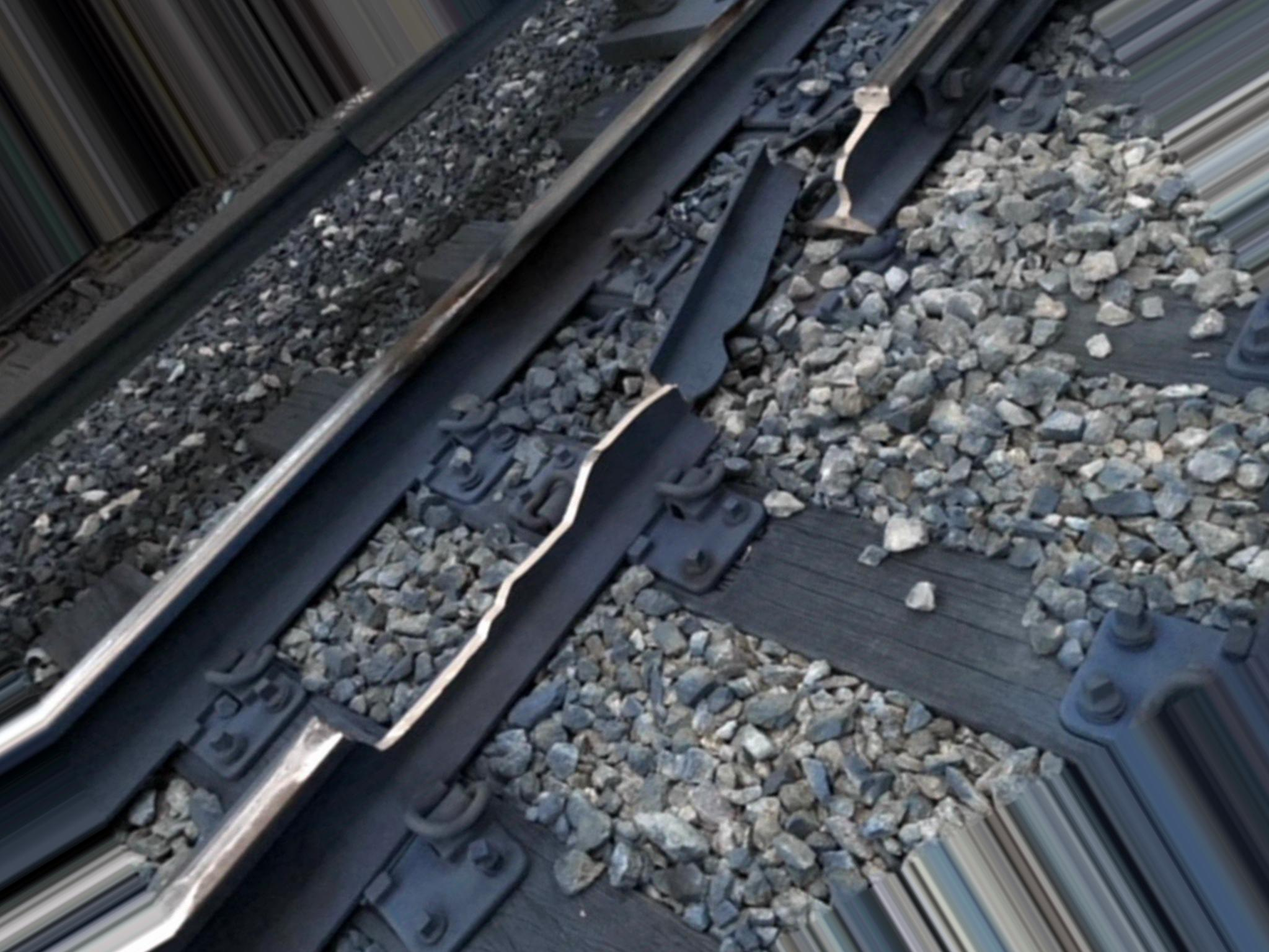tracks_fault: (265, 62, 915, 823)
